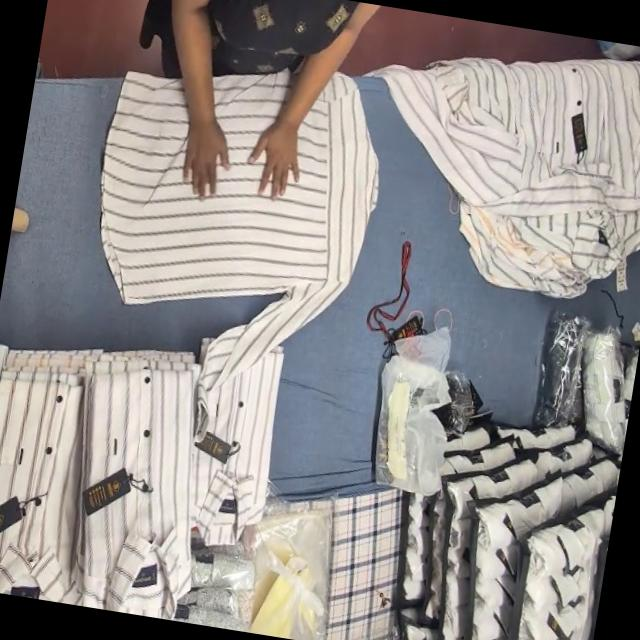new-garment: (101, 73, 376, 438)
